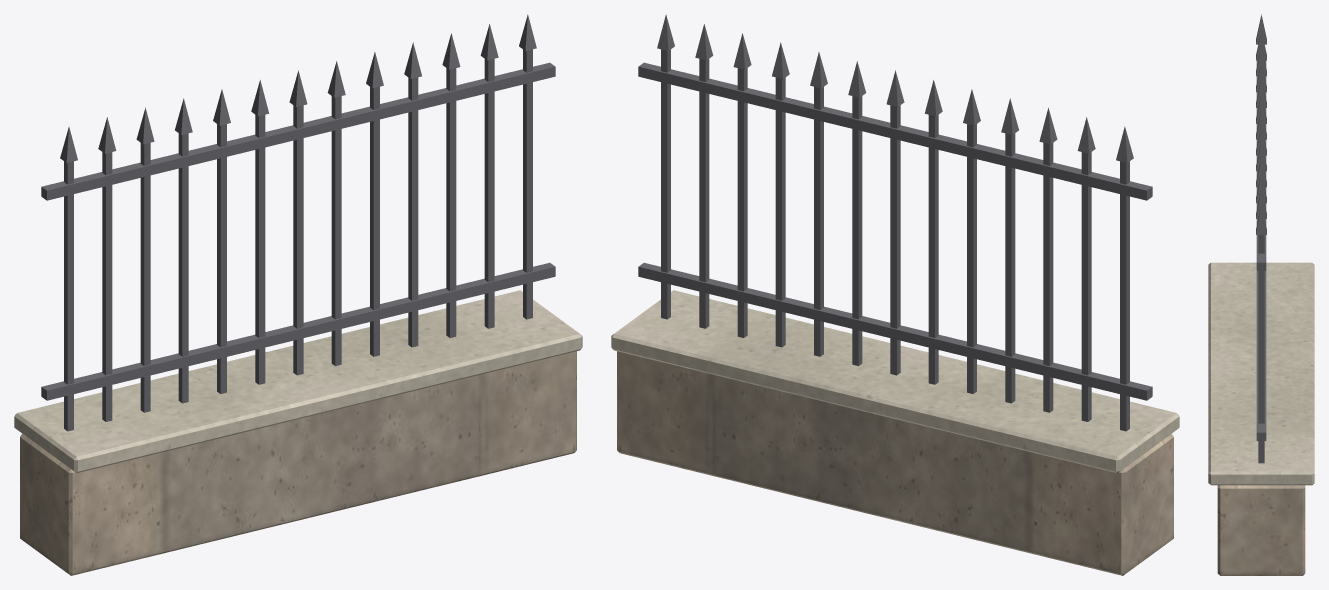
File: fence_np.glb
The picture shows the model from 3 angles, left to right: view 1: azimuth 30°, elevation 25°; view 2: azimuth 150°, elevation 25°; view 3: azimuth 270°, elevation 25°; orthographic projection. The views are drawn at different scales.
Visible parts, largest first — view 1: fence_np_bstone, fence_np_iron, fence_np_carve; view 2: fence_np_bstone, fence_np_iron, fence_np_carve; view 3: fence_np_carve, fence_np_bstone, fence_np_iron.
Boxes of the visible parts, <box> form: fence_np_bstone: <box>20,351,576,575</box>; fence_np_iron: <box>41,14,555,431</box>; fence_np_carve: <box>14,290,582,473</box>; fence_np_bstone: <box>617,351,1173,575</box>; fence_np_iron: <box>638,14,1152,431</box>; fence_np_carve: <box>611,290,1179,473</box>; fence_np_carve: <box>1208,262,1314,485</box>; fence_np_bstone: <box>1217,485,1305,575</box>; fence_np_iron: <box>1256,14,1266,463</box>.
Size of the model in its own units: 1.6 by 1.28 by 0.34.
3 materials, 2 textured.
